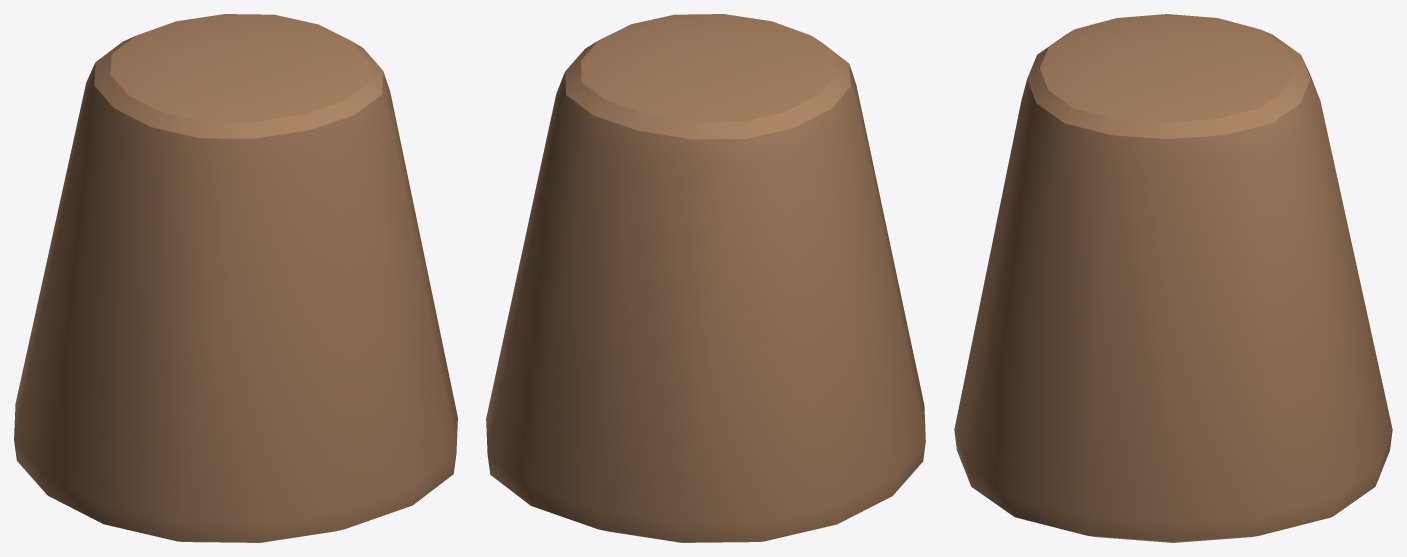
File: RockPlatform_Tall.002.fbx
3 renders of one model, left to right at view 1: azimuth 30°, elevation 25°; view 2: azimuth 150°, elevation 25°; view 3: azimuth 270°, elevation 25°, orthographic.
Visible parts, largest first — view 1: RockPlatform_Tall.002; view 2: RockPlatform_Tall.002; view 3: RockPlatform_Tall.002.
Boxes of the visible parts, x1,y1,x2,y2 form: RockPlatform_Tall.002: (14, 14, 457, 542); RockPlatform_Tall.002: (486, 14, 925, 542); RockPlatform_Tall.002: (954, 14, 1392, 542).
Bounding box in the file's own units: 322 × 328 × 322.
